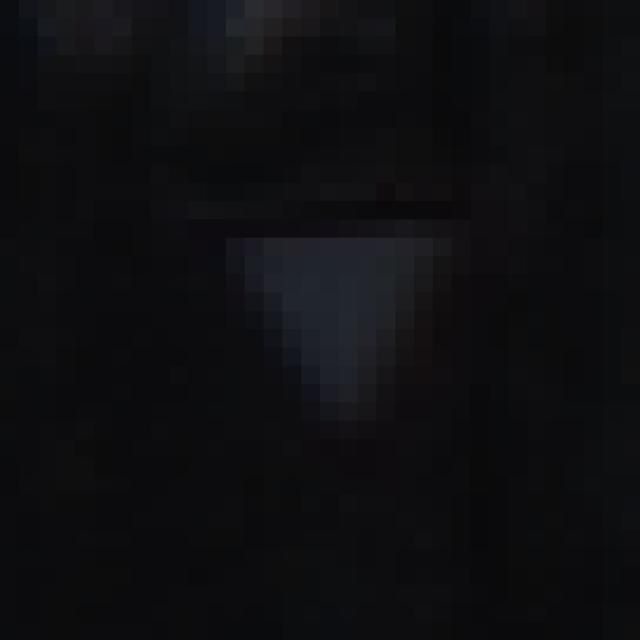Give Way: (95, 111, 547, 550)
